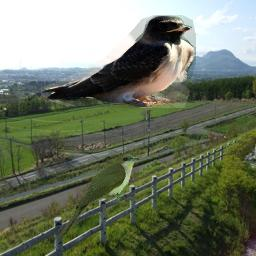Cuckoo: (58, 154, 141, 240)
Swallow: (39, 15, 196, 108)
